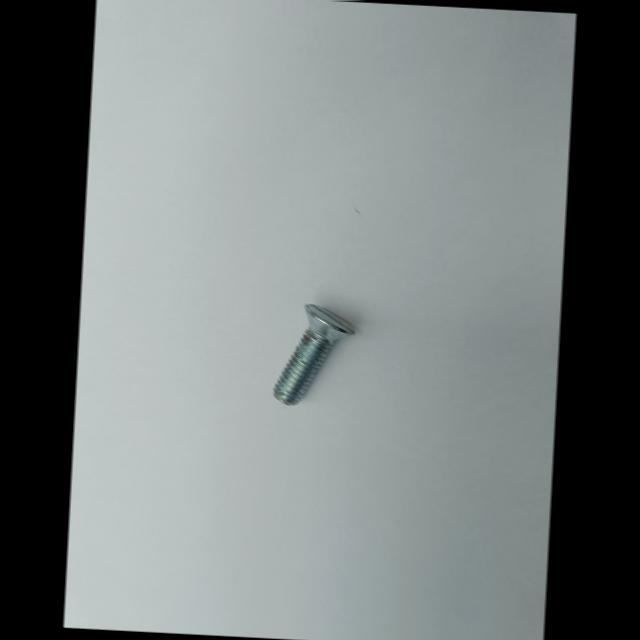bolt: (274, 303, 355, 405)
